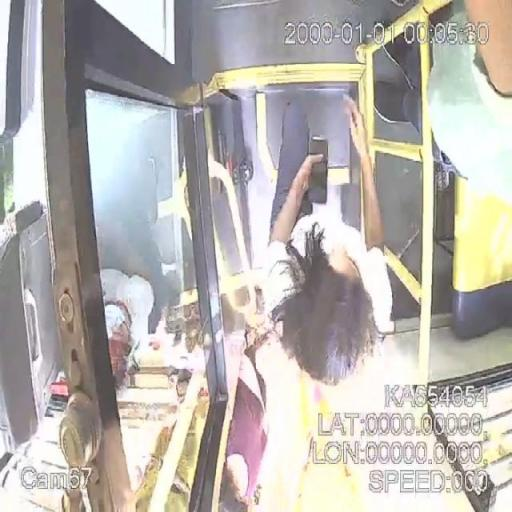persona: (219, 95, 394, 399), (368, 4, 508, 170)
